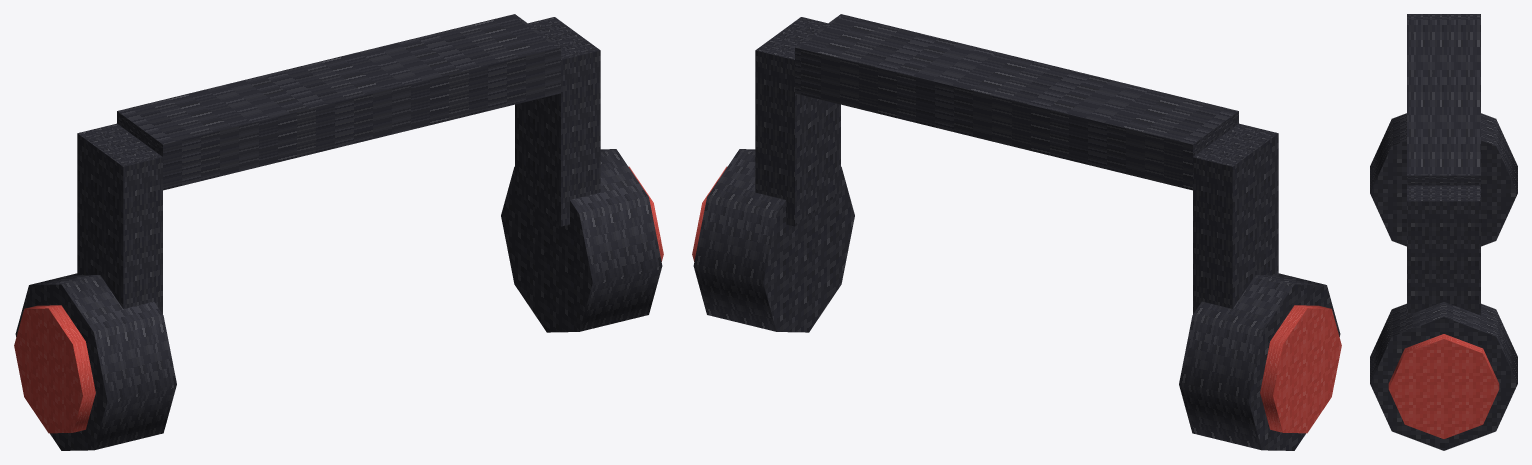
Rendered from auriculares.glb.
3 views of the same model, side by side, from view 1: azimuth 30°, elevation 25°; view 2: azimuth 150°, elevation 25°; view 3: azimuth 270°, elevation 25° (orthographic). The views are drawn at different scales.
Parts seen in each view (by area): view 1: _MeshInstance3D_52, _MeshInstance3D_57, _MeshInstance3D_54, _MeshInstance3D_53, _MeshInstance3D_56, _MeshInstance3D_55; view 2: _MeshInstance3D_52, _MeshInstance3D_57, _MeshInstance3D_54, _MeshInstance3D_53, _MeshInstance3D_56, _MeshInstance3D_55; view 3: _MeshInstance3D_52, _MeshInstance3D_56, _MeshInstance3D_57, _MeshInstance3D_58, _MeshInstance3D_54, _MeshInstance3D_53.
Part boxes in pixels (box(x1,y1,x2,y2)): _MeshInstance3D_52: box(117, 14, 560, 190); _MeshInstance3D_57: box(501, 149, 662, 332); _MeshInstance3D_54: box(15, 273, 176, 450); _MeshInstance3D_53: box(77, 123, 162, 313); _MeshInstance3D_56: box(515, 17, 600, 226); _MeshInstance3D_55: box(14, 305, 95, 433); _MeshInstance3D_52: box(795, 14, 1238, 190); _MeshInstance3D_57: box(693, 149, 854, 332); _MeshInstance3D_54: box(1179, 273, 1340, 450); _MeshInstance3D_53: box(1193, 123, 1278, 313); _MeshInstance3D_56: box(755, 17, 840, 226); _MeshInstance3D_55: box(1260, 305, 1341, 433); _MeshInstance3D_52: box(1407, 19, 1480, 185); _MeshInstance3D_56: box(1407, 185, 1480, 315); _MeshInstance3D_57: box(1370, 302, 1517, 450); _MeshInstance3D_58: box(1388, 334, 1499, 438); _MeshInstance3D_54: box(1370, 113, 1517, 246); _MeshInstance3D_53: box(1407, 14, 1480, 19).
Bounding box in the file's own units: 0.292 × 0.146 × 0.08.
Materials: 2 (2 with a texture image).
